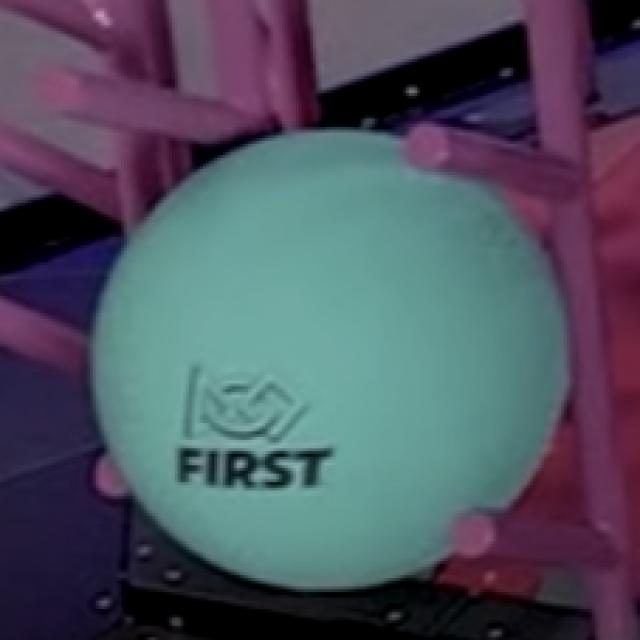Algae: (93, 130, 568, 584)
Reef: (406, 122, 578, 225), (48, 68, 240, 147), (0, 121, 122, 217), (455, 512, 615, 576), (0, 300, 91, 382), (0, 0, 116, 50)
